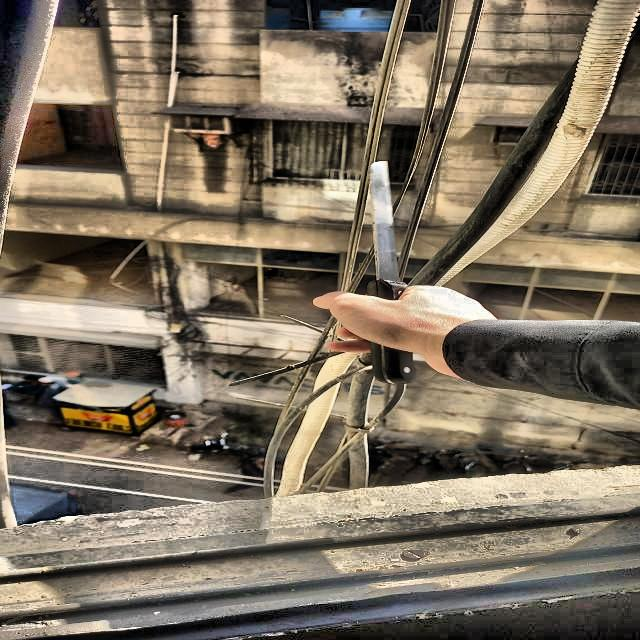knife: (370, 158, 414, 387)
